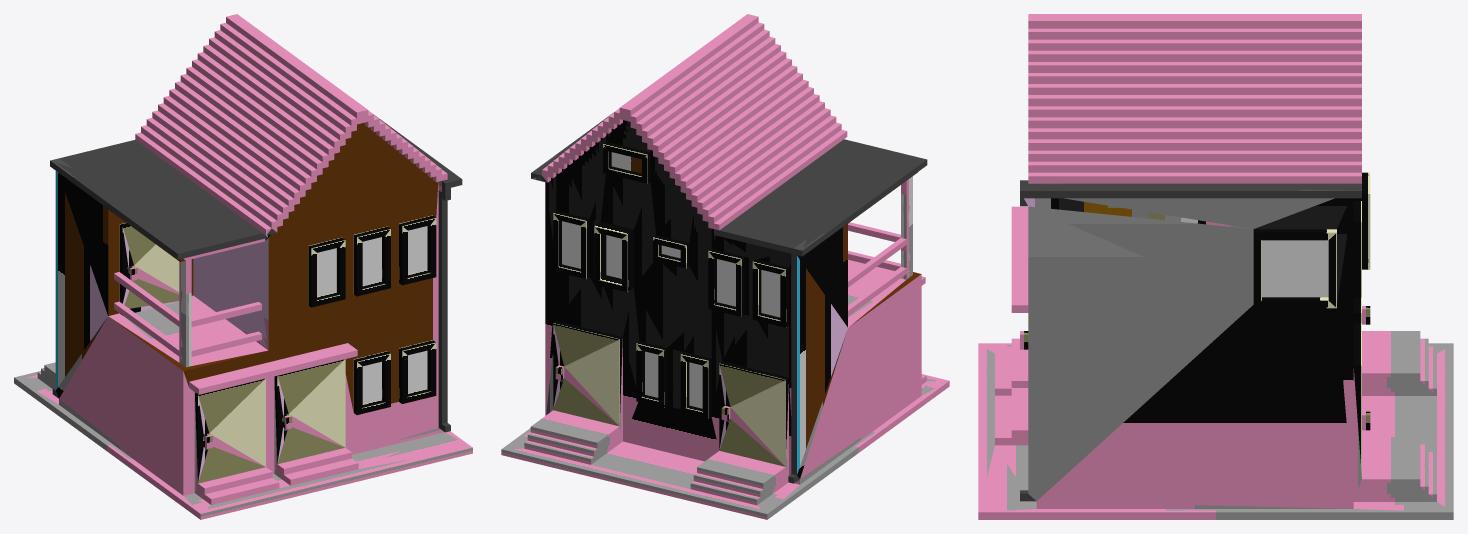
File: obj_house8b.fbx
3 renders of one model, left to right at view 1: azimuth 30°, elevation 25°; view 2: azimuth 150°, elevation 25°; view 3: azimuth 270°, elevation 25°, orthographic. The views are drawn at different scales.
Visible parts, largest first — view 1: obj_house8b; view 2: obj_house8b; view 3: obj_house8b.
Boxes of the visible parts, bbox=[...] form: obj_house8b: bbox=[14, 14, 472, 519]; obj_house8b: bbox=[501, 14, 949, 519]; obj_house8b: bbox=[978, 14, 1453, 519].
Size of the model in its own units: 4.9 by 5.7 by 5.9.
